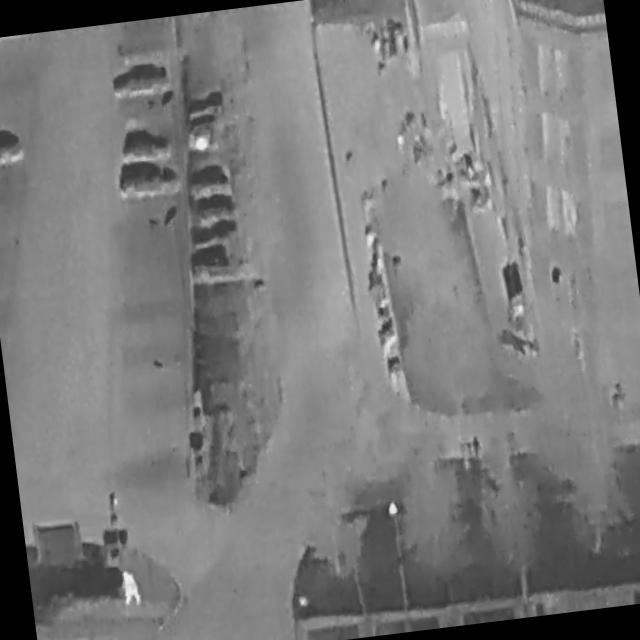person: (118, 565, 144, 608)
